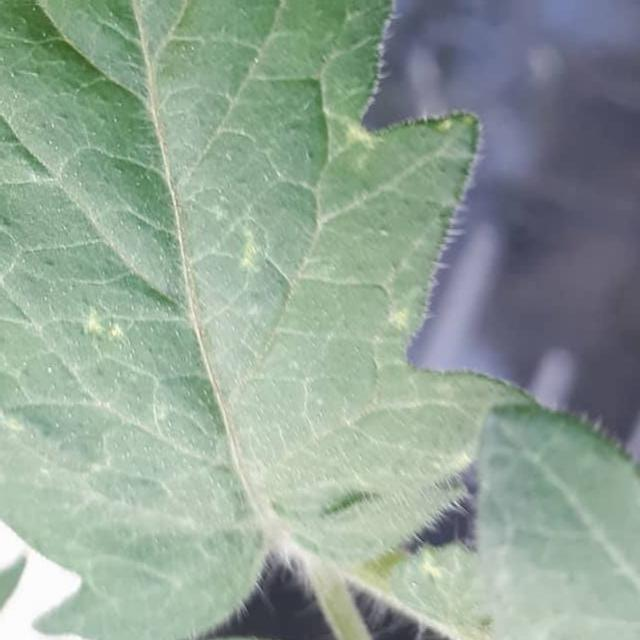Tomato mold leaf: (0, 0, 459, 640)
